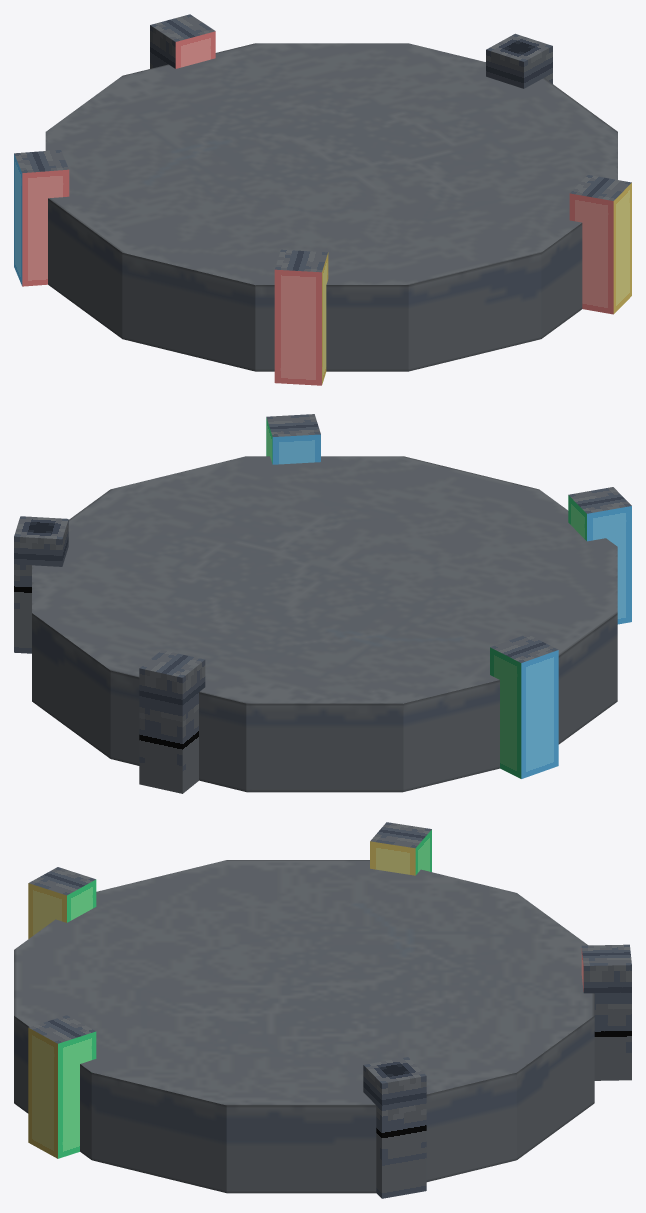
Rendered from SummoningAltar.fbx.
The picture shows the model from 3 angles, top to bottom: view 1: azimuth 30°, elevation 25°; view 2: azimuth 150°, elevation 25°; view 3: azimuth 270°, elevation 25°; orthographic projection. The views are drawn at different scales.
Parts seen in each view (by area): view 1: Altar, Pillar4, Pillar3, Pillar5, Pillar2, Pillar1; view 2: Altar, Pillar2, Pillar5, Pillar4, Pillar1, Pillar3; view 3: Altar, Pillar3, Pillar1, Pillar2, Pillar4, Pillar5.
Part boxes in pixels (<box>): Altar: <box>45,43,617,371</box>; Pillar4: <box>274,249,328,385</box>; Pillar3: <box>569,175,631,314</box>; Pillar5: <box>14,150,69,286</box>; Pillar2: <box>150,14,215,68</box>; Pillar1: <box>486,33,552,88</box>; Altar: <box>32,456,617,792</box>; Pillar2: <box>139,650,205,793</box>; Pillar5: <box>490,634,558,778</box>; Pillar4: <box>568,487,631,624</box>; Pillar1: <box>14,516,68,653</box>; Pillar3: <box>266,414,320,464</box>; Altar: <box>14,860,594,1193</box>; Pillar3: <box>28,1015,96,1158</box>; Pillar1: <box>363,1057,426,1198</box>; Pillar2: <box>581,944,631,1080</box>; Pillar4: <box>28,867,96,938</box>; Pillar5: <box>370,822,431,875</box>.
Bounding box in the file's own units: 640 × 131 × 639.
6 materials, 6 textured.
